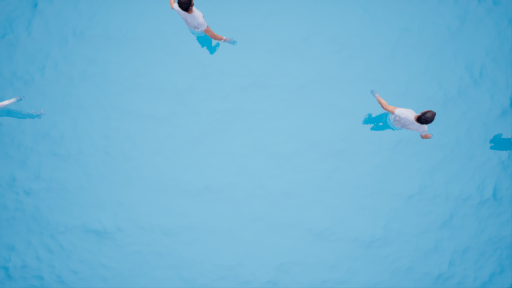person: (361, 84, 442, 148), (156, 1, 243, 57), (1, 93, 44, 134)
